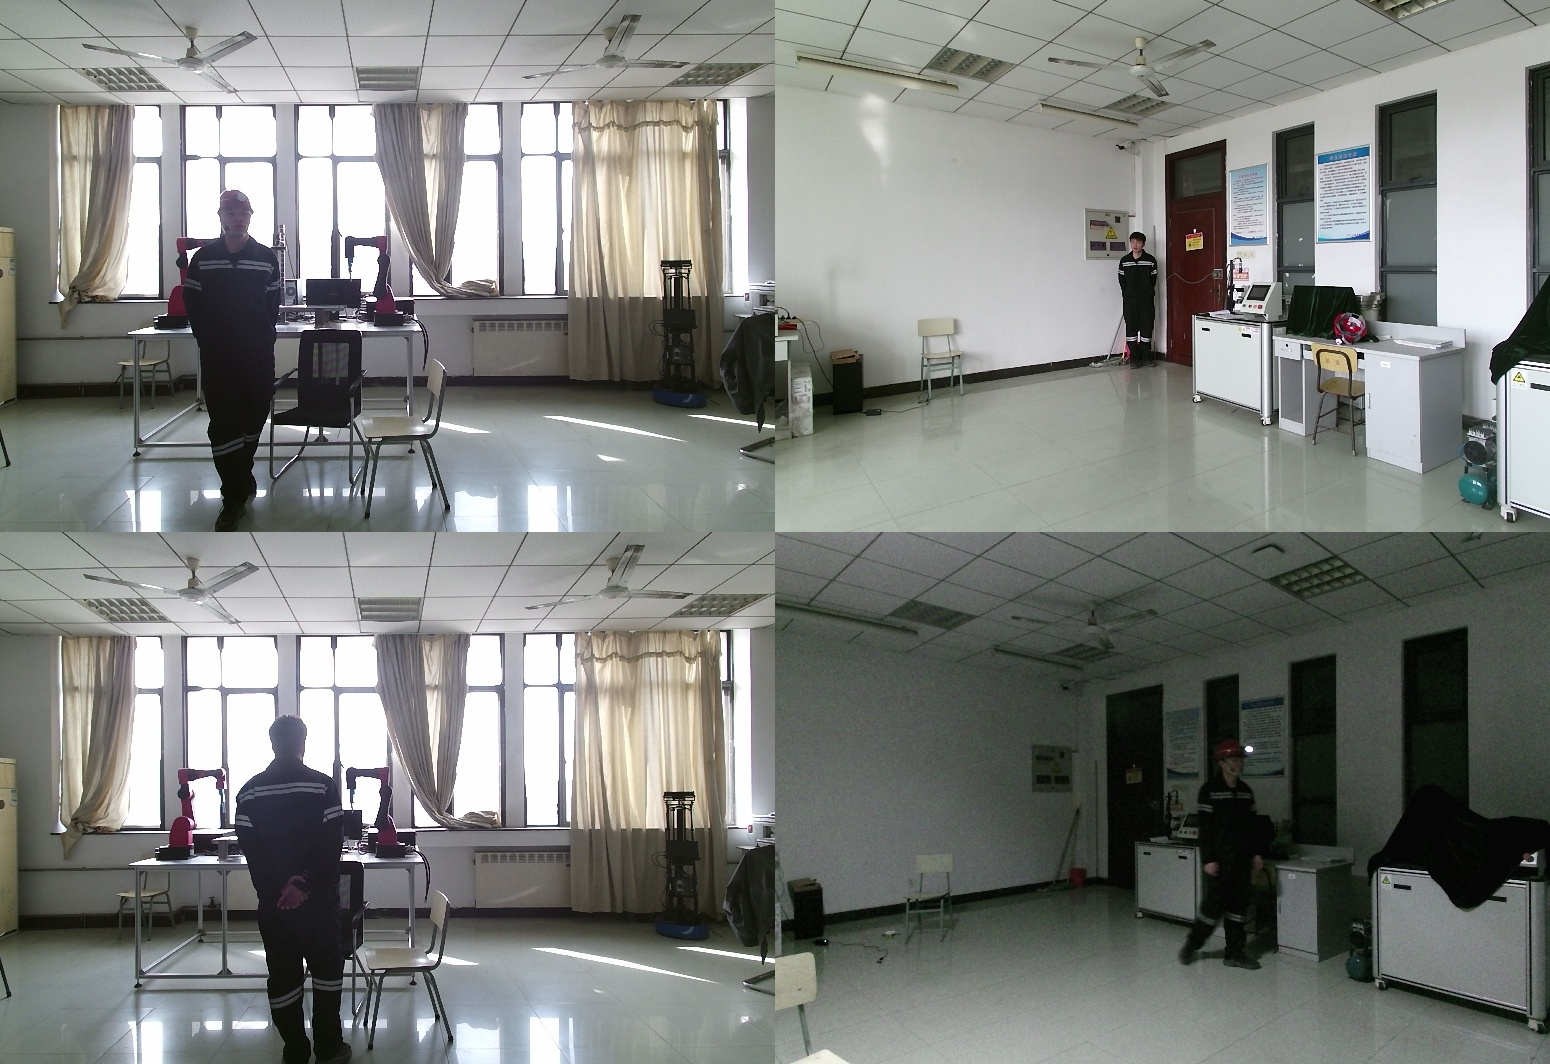person: (233, 717, 361, 1064), (179, 189, 290, 532), (1178, 738, 1261, 971), (1116, 232, 1161, 370)
